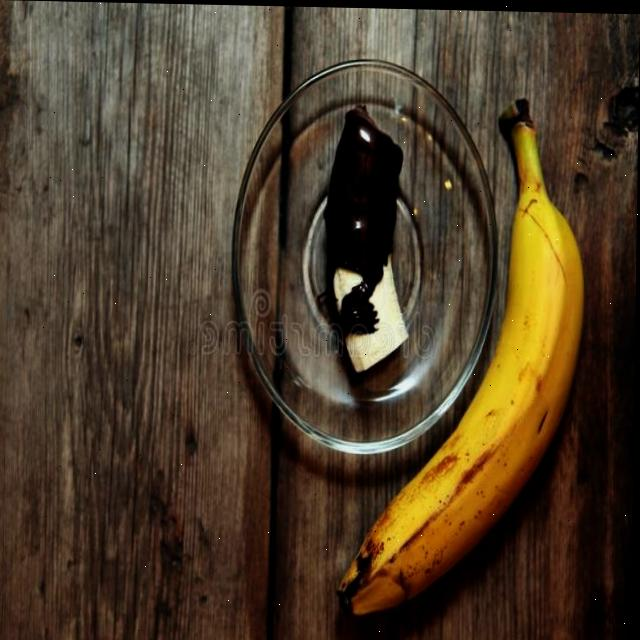banana: (329, 88, 591, 632)
